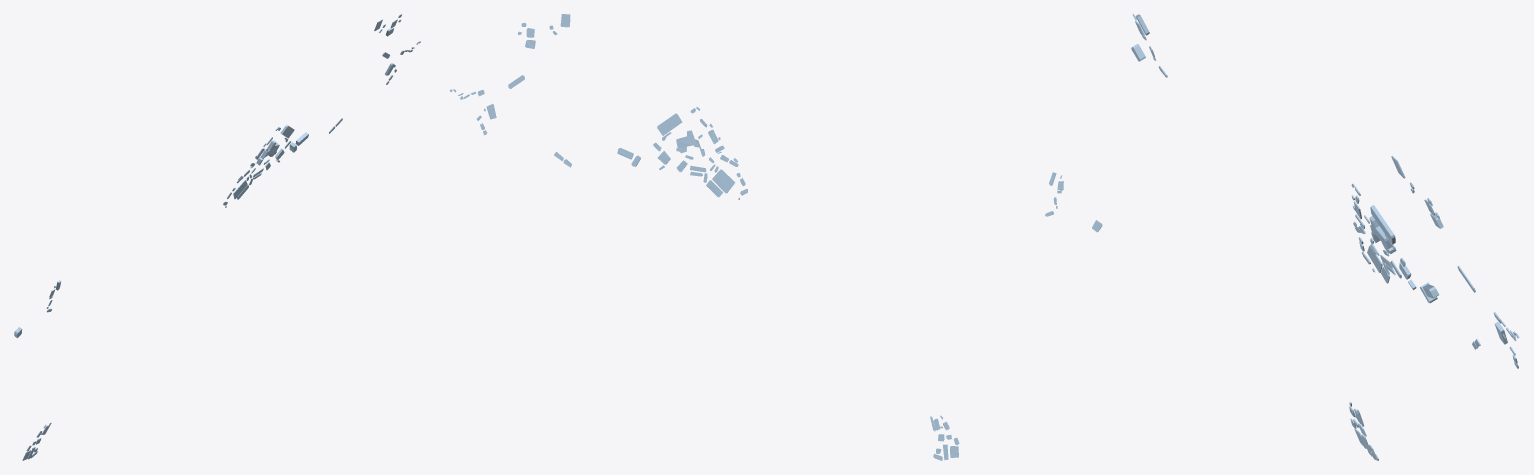
3 renders of one model, left to right at view 1: azimuth 30°, elevation 25°; view 2: azimuth 150°, elevation 25°; view 3: azimuth 270°, elevation 25°, orthographic. The views are drawn at different scales.
Visible parts, largest first — view 1: geometry_0; view 2: geometry_0; view 3: geometry_0.
Boxes of the visible parts, x1=… form: geometry_0: x1=14, y1=14, x2=420, y2=460; geometry_0: x1=450, y1=14, x2=1102, y2=460; geometry_0: x1=1131, y1=14, x2=1519, y2=460.
Size of the model in its own units: 1586 by 1017 by 597.
